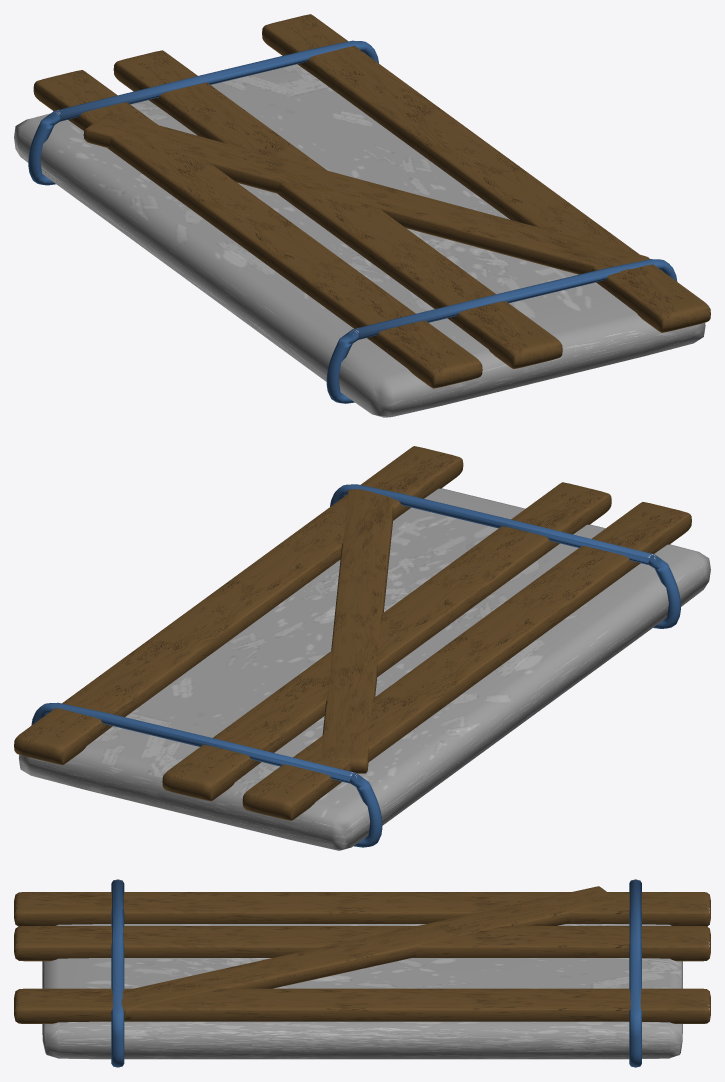
File: styro.fbx
The picture shows the model from 3 angles, top to bottom: view 1: azimuth 30°, elevation 25°; view 2: azimuth 150°, elevation 25°; view 3: azimuth 270°, elevation 25°; orthographic projection. The views are drawn at different scales.
Parts seen in each view (by area): view 1: Cube; view 2: Cube; view 3: Cube.
Boxes of the visible parts, bbox=[...] form: Cube: bbox=[14, 14, 710, 417]; Cube: bbox=[14, 446, 710, 850]; Cube: bbox=[14, 879, 710, 1067].
Size of the model in its own units: 259 by 51.42 by 515.
Materials: 7 (7 with a texture image).
